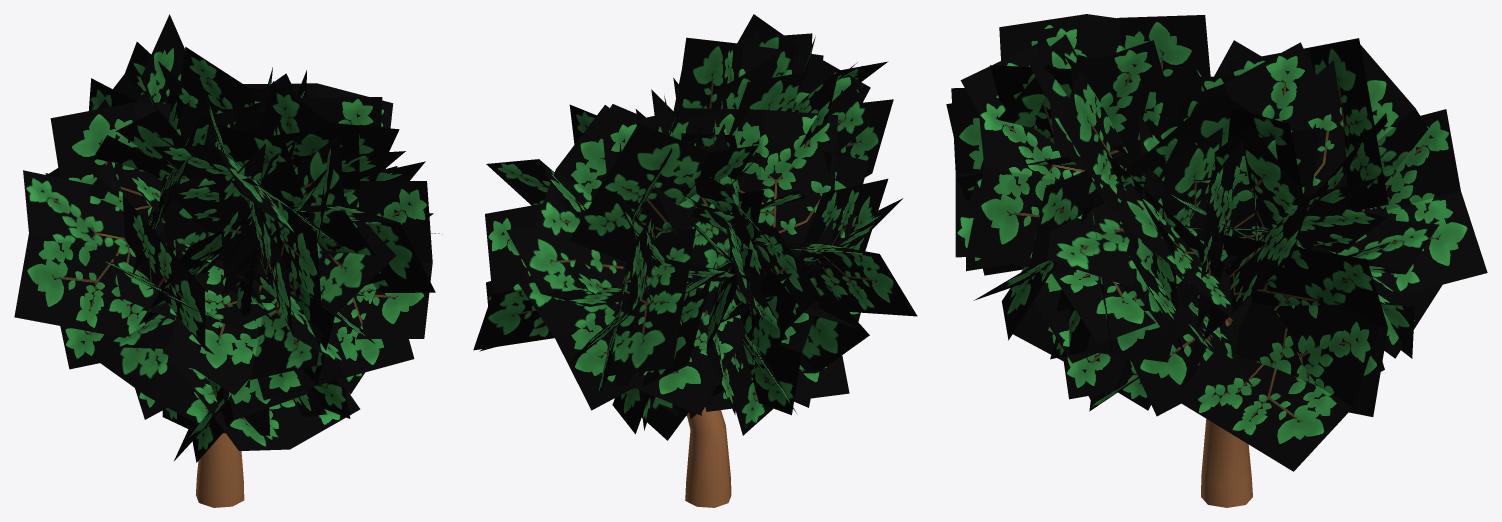
The model's file is TreeVariation.fbx.
3 views of the same model, side by side, from view 1: azimuth 30°, elevation 25°; view 2: azimuth 150°, elevation 25°; view 3: azimuth 270°, elevation 25° (orthographic). The views are drawn at different scales.
Visible parts, largest first — view 1: TreeVariation|Galhos|Dupli|14, TreeVariation|Galhos|Dupli|45, TreeVariation|Galhos|Dupli|52, TreeVariation|Galhos|Dupli|32, TreeVariation|Galhos|Dupli|63, TreeVariation|Galhos|Dupli|60, TreeVariation|Galhos|Dupli|28, TreeVariation|Galhos|Dupli|65, TreeVariation|Galhos|Dupli|39, TreeVariation|Galhos|Dupli|98, TreeVariation|Galhos|Dupli|47, TreeVariation|Galhos|Dupli|57 (+37 smaller); view 2: TreeVariation|Galhos|Dupli|29, TreeVariation|Galhos|Dupli|81, TreeVariation|Galhos|Dupli|78, TreeVariation|Galhos|Dupli|92, TreeVariation|Galhos|Dupli|74, TreeVariation|Galhos|Dupli|85, TreeVariation|Galhos|Dupli|14, TreeVariation|Galhos|Dupli|13, TreeVariation, TreeVariation|Galhos|Dupli|73, TreeVariation|Galhos|Dupli|61, TreeVariation|Galhos|Dupli|16 (+34 smaller); view 3: TreeVariation|Galhos|Dupli|94, TreeVariation|Galhos|Dupli|92, TreeVariation|Galhos|Dupli|51, TreeVariation|Galhos|Dupli|79, TreeVariation|Galhos|Dupli|77, TreeVariation|Galhos|Dupli|50, TreeVariation|Galhos|Dupli|74, TreeVariation|Galhos|Dupli|55, TreeVariation|Galhos|Dupli|81, TreeVariation|Galhos|Dupli|93, TreeVariation|Galhos|Dupli|53, TreeVariation|Galhos|Dupli|82 (+33 smaller).
Boxes of the visible parts, x1=… form: TreeVariation|Galhos|Dupli|14: x1=14, y1=170, x2=159, y2=337; TreeVariation|Galhos|Dupli|45: x1=167, y1=265, x2=322, y2=379; TreeVariation|Galhos|Dupli|52: x1=344, y1=181, x2=432, y2=339; TreeVariation|Galhos|Dupli|32: x1=50, y1=102, x2=189, y2=235; TreeVariation|Galhos|Dupli|63: x1=222, y1=256, x2=414, y2=400; TreeVariation|Galhos|Dupli|60: x1=288, y1=201, x2=396, y2=385; TreeVariation|Galhos|Dupli|28: x1=122, y1=195, x2=214, y2=354; TreeVariation|Galhos|Dupli|65: x1=218, y1=126, x2=359, y2=278; TreeVariation|Galhos|Dupli|39: x1=91, y1=225, x2=208, y2=428; TreeVariation|Galhos|Dupli|98: x1=163, y1=349, x2=360, y2=450; TreeVariation|Galhos|Dupli|47: x1=294, y1=135, x2=391, y2=284; TreeVariation|Galhos|Dupli|57: x1=259, y1=179, x2=374, y2=343; TreeVariation|Galhos|Dupli|29: x1=685, y1=108, x2=837, y2=265; TreeVariation|Galhos|Dupli|81: x1=569, y1=123, x2=758, y2=263; TreeVariation|Galhos|Dupli|78: x1=597, y1=228, x2=696, y2=396; TreeVariation|Galhos|Dupli|92: x1=473, y1=203, x2=554, y2=350; TreeVariation|Galhos|Dupli|74: x1=534, y1=105, x2=627, y2=288; TreeVariation|Galhos|Dupli|85: x1=517, y1=261, x2=633, y2=410; TreeVariation|Galhos|Dupli|14: x1=754, y1=243, x2=917, y2=316; TreeVariation|Galhos|Dupli|13: x1=611, y1=299, x2=746, y2=414; TreeVariation: x1=685, y1=407, x2=731, y2=507; TreeVariation|Galhos|Dupli|73: x1=506, y1=226, x2=629, y2=306; TreeVariation|Galhos|Dupli|61: x1=677, y1=37, x2=823, y2=108; TreeVariation|Galhos|Dupli|16: x1=654, y1=123, x2=740, y2=314; TreeVariation|Galhos|Dupli|94: x1=1173, y1=304, x2=1379, y2=471; TreeVariation|Galhos|Dupli|92: x1=1221, y1=234, x2=1387, y2=416; TreeVariation|Galhos|Dupli|51: x1=966, y1=94, x2=1084, y2=273; TreeVariation|Galhos|Dupli|79: x1=1371, y1=109, x2=1487, y2=295; TreeVariation|Galhos|Dupli|77: x1=1177, y1=42, x2=1347, y2=204; TreeVariation|Galhos|Dupli|50: x1=990, y1=40, x2=1164, y2=152; TreeVariation|Galhos|Dupli|74: x1=1214, y1=124, x2=1387, y2=252; TreeVariation|Galhos|Dupli|55: x1=1036, y1=15, x2=1210, y2=77; TreeVariation|Galhos|Dupli|81: x1=1226, y1=38, x2=1388, y2=210; TreeVariation|Galhos|Dupli|93: x1=1196, y1=127, x2=1319, y2=329; TreeVariation|Galhos|Dupli|53: x1=1047, y1=203, x2=1179, y2=348; TreeVariation|Galhos|Dupli|82: x1=1316, y1=44, x2=1428, y2=183.
Size of the model in its own units: 1781 by 1765 by 1855.
